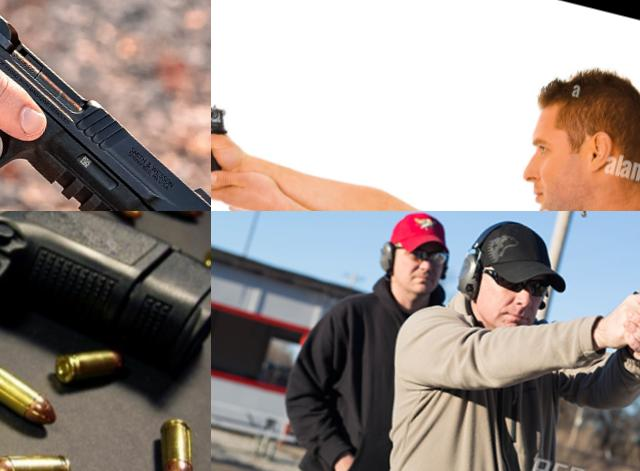handgun: (0, 211, 211, 470), (0, 0, 211, 211), (211, 76, 280, 194)
